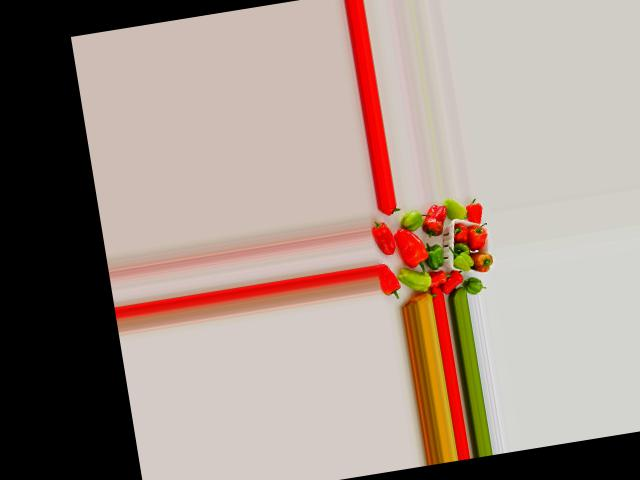bell_pepper: (376, 266, 405, 302)
